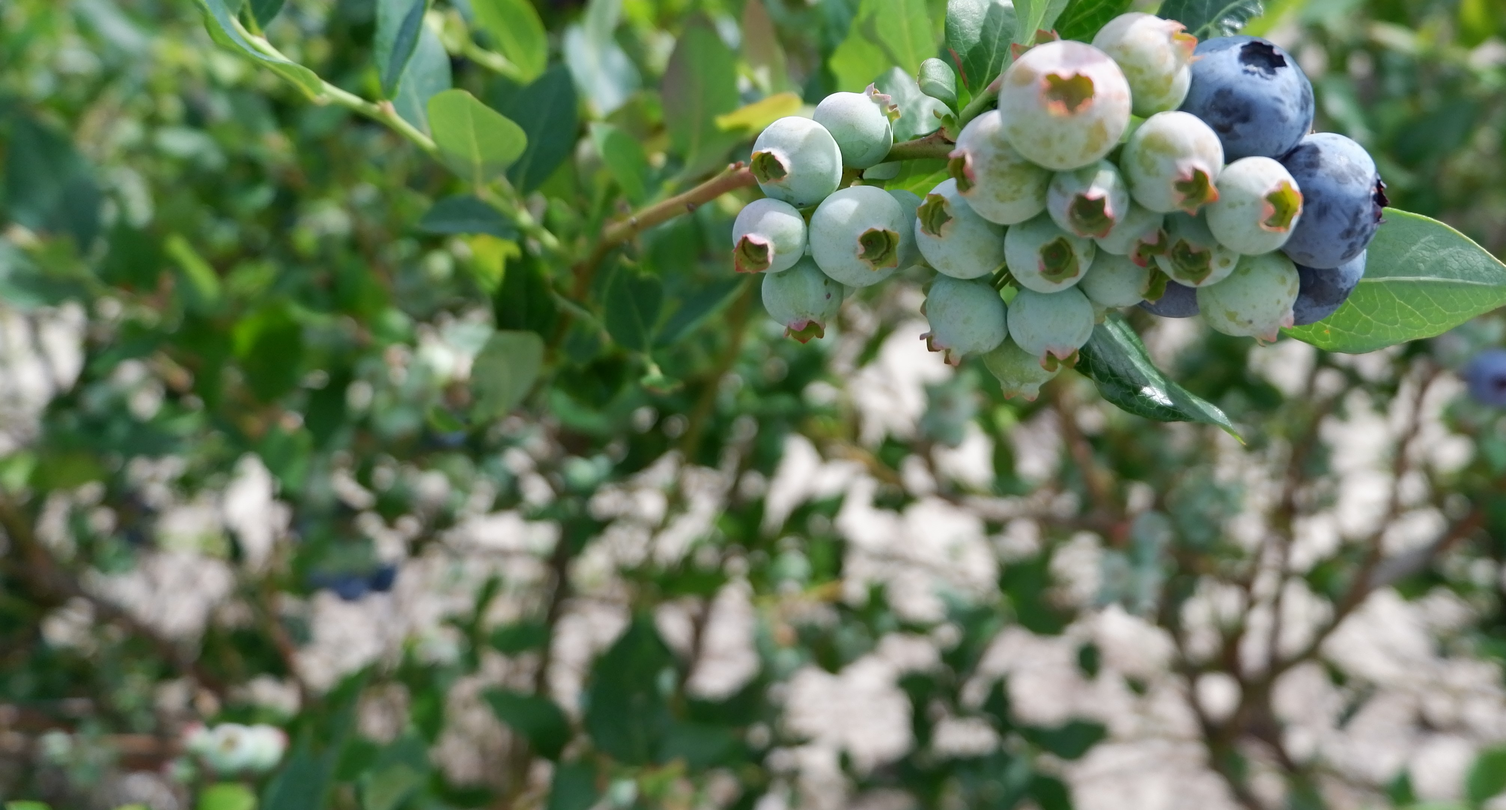Immature: (1003, 43, 1132, 166), (953, 113, 1049, 221), (1126, 114, 1223, 211), (811, 187, 907, 285), (1100, 17, 1195, 113), (1209, 159, 1299, 252), (918, 182, 1006, 276), (1205, 253, 1296, 343), (754, 119, 840, 206), (1007, 213, 1093, 291), (924, 278, 1007, 356), (763, 253, 841, 336), (1010, 285, 1092, 360), (1050, 162, 1130, 235), (1156, 213, 1235, 283), (818, 95, 891, 168), (1081, 245, 1172, 303), (734, 201, 806, 270), (989, 337, 1060, 398), (1099, 197, 1159, 253)
Mature: (1187, 37, 1312, 160), (1285, 137, 1385, 263), (1294, 255, 1363, 322), (1138, 279, 1199, 319)
